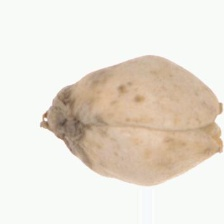L1: (39, 83, 88, 169), (211, 94, 224, 157)
L2: (40, 55, 223, 187)
